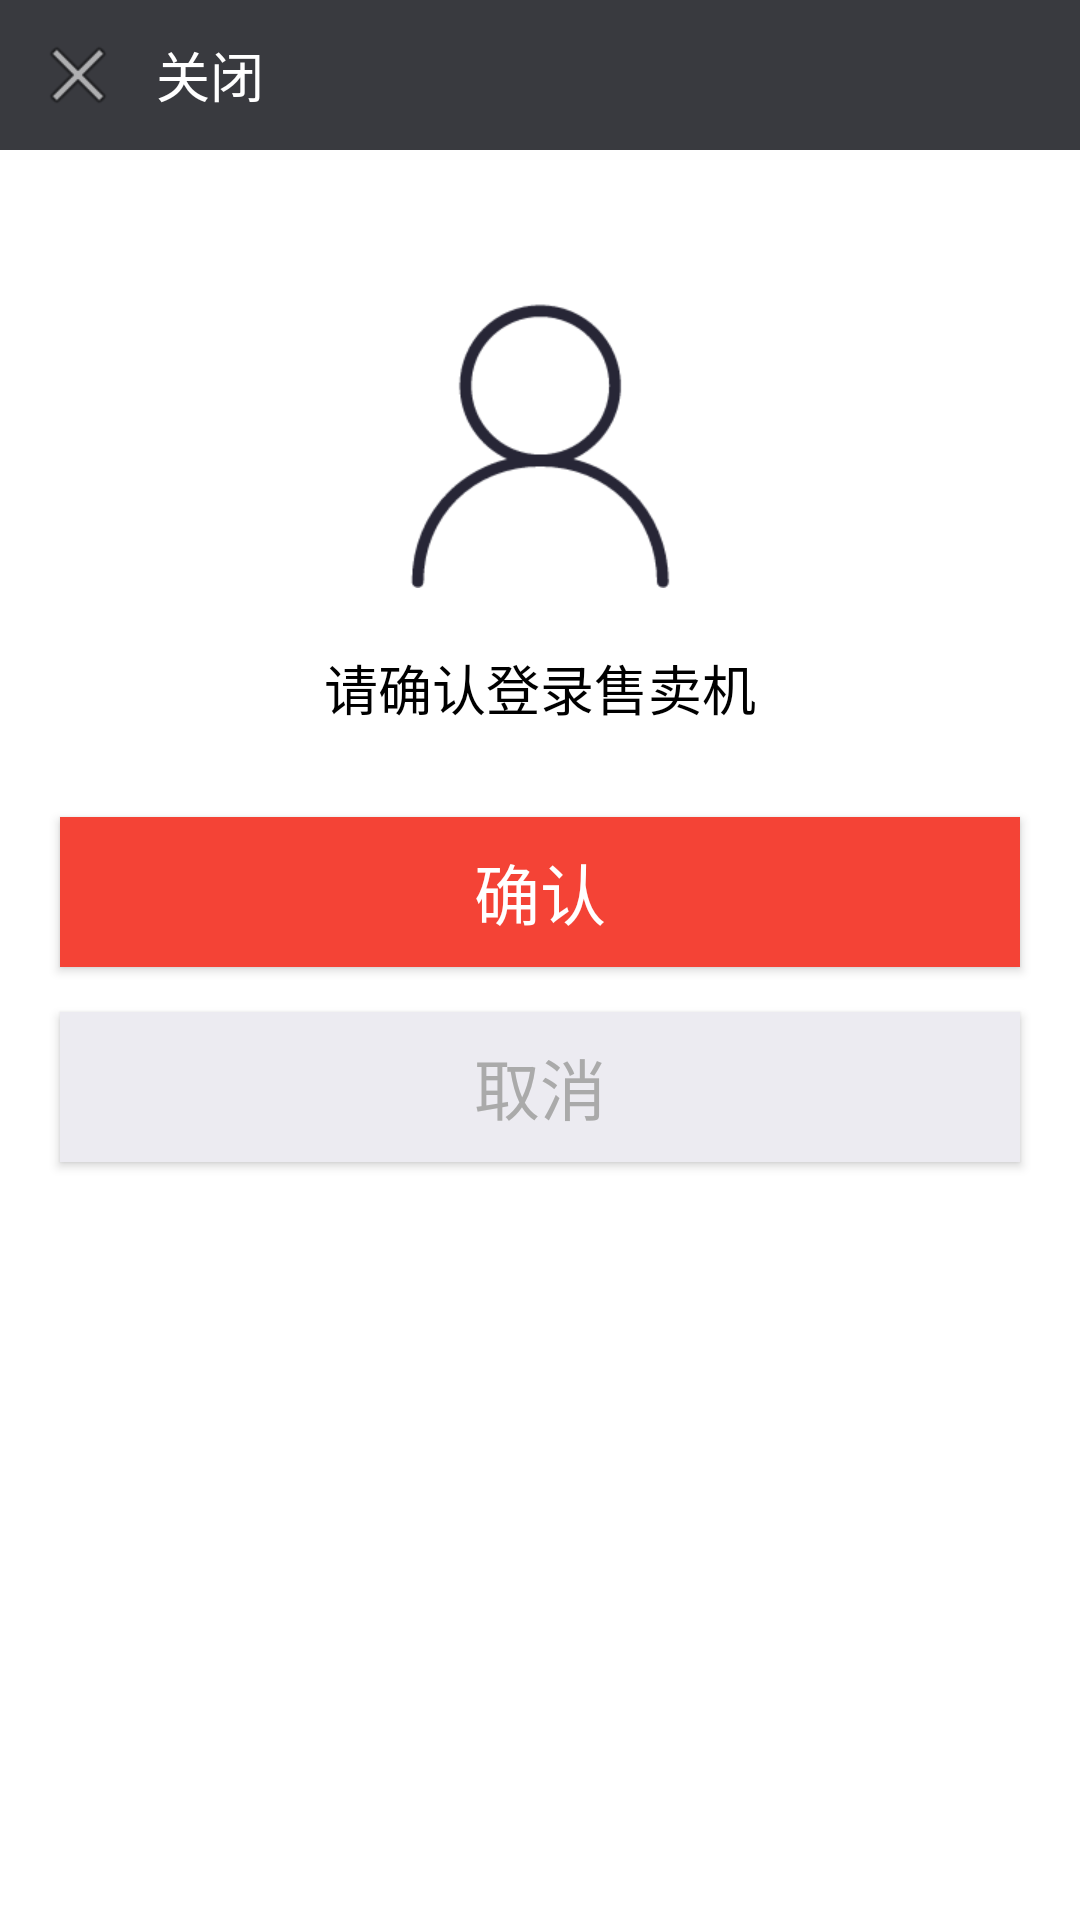

Icon bounding boxes for this 1080w x 1920h phone screenshot, format region(x1, y1, x2, y2):
close clear cancel: region(52, 48, 105, 101)
user: region(411, 304, 670, 588)
